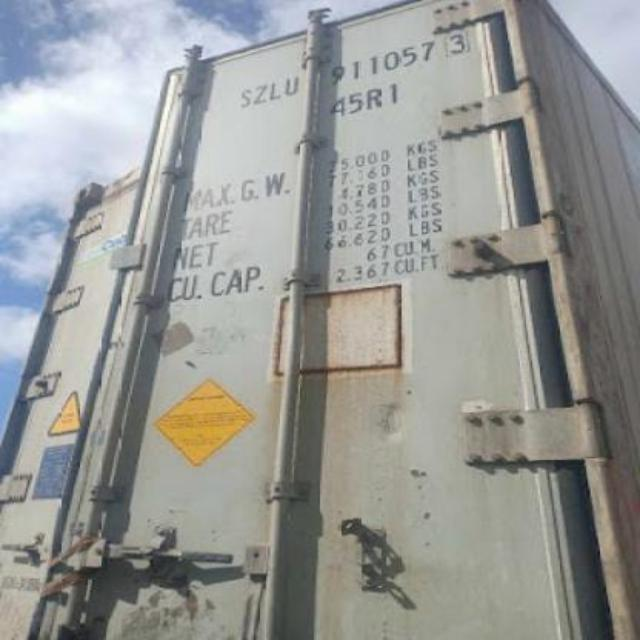0: (384, 52, 400, 72)
1: (348, 58, 364, 82), (366, 54, 379, 76)
3: (448, 34, 466, 56)
5: (402, 47, 418, 67)
7: (416, 38, 438, 62)
9: (326, 62, 346, 84)
L: (268, 81, 282, 101)
S: (236, 88, 252, 109)
U: (282, 77, 300, 97)
Z: (252, 84, 268, 106)
